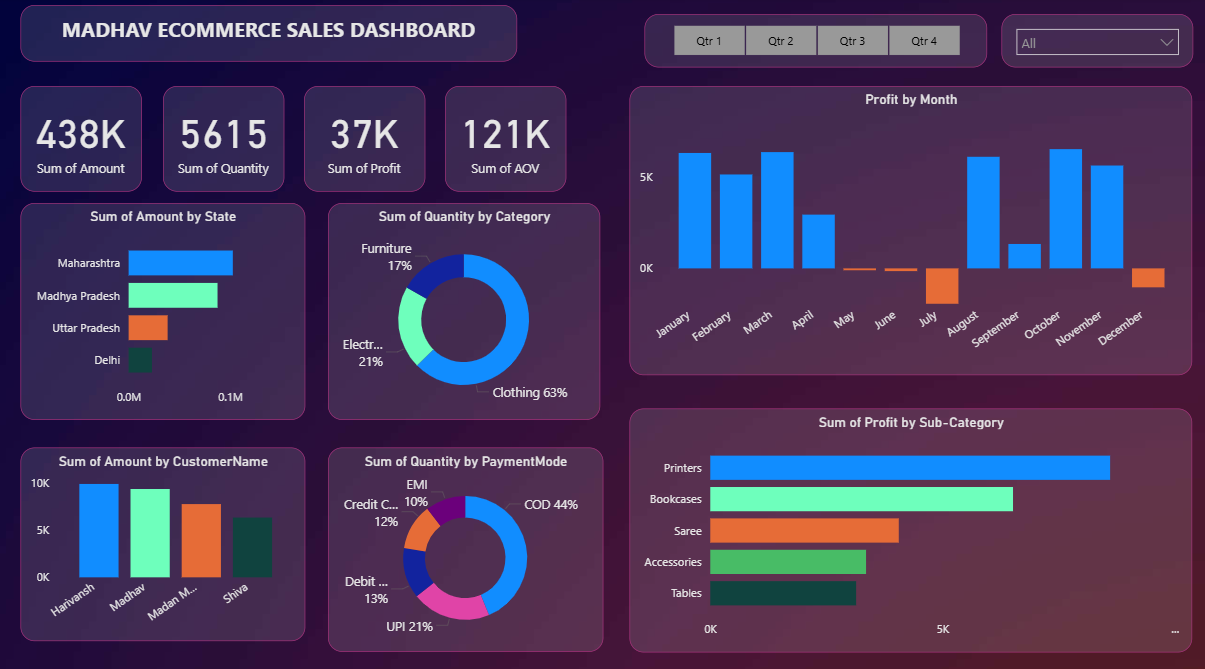

This screenshot's page, from the dashboard's own definition file:
{"tool":"powerbi","page":{"name":"Page 1","canvas":[1280,720],"ordinal":0},"visuals":[{"type":"textbox","box":[23.3,10,526.7,60],"z":0},{"type":"columnChart","title":"Profit by Month","fields":{"Category":["Orders (1).Order Date.Variation.Date Hierarchy.Month"],"Y":["Sum(Details (1).Profit)"]},"box":[670,95,596.7,306.7],"z":1000},{"type":"barChart","fields":{"Category":["Details (1).Sub-Category"],"Y":["Sum(Details (1).Profit)"]},"box":[670,436.7,596.7,258.3],"z":2000},{"type":"pieChart","fields":{"Category":["Details (1).Category"],"Y":["Sum(Details (1).Quantity)"]},"box":[350,220,288.3,230],"z":3000},{"type":"pieChart","fields":{"Category":["Details (1).PaymentMode","Details (1).Category"],"Y":["Sum(Details (1).Quantity)"]},"box":[350,478.3,291.7,216.7],"z":4000},{"type":"card","fields":{"Values":["Sum(Details (1).Amount)"]},"box":[23.3,95,128.3,111.7],"z":5000},{"type":"card","fields":{"Values":["Sum(Details (1).Quantity)"]},"box":[175,95,128.3,111.7],"z":6000},{"type":"card","fields":{"Values":["Sum(Details (1).Profit)"]},"box":[325,95,128.3,111.7],"z":7000},{"type":"card","fields":{"Values":["Sum(Details (1).AOV)"]},"box":[473.3,95,128.3,111.7],"z":8000},{"type":"barChart","fields":{"Category":["Orders (1).State"],"Y":["Sum(Details (1).Amount)"]},"box":[23.3,220,301.7,230],"z":9000},{"type":"columnChart","fields":{"Category":["Orders (1).CustomerName"],"Y":["Sum(Details (1).Amount)"]},"box":[23.3,478.3,301.7,205],"z":10000},{"type":"slicer","fields":{"Values":["Orders (1).Order Date.Variation.Date Hierarchy.Quarter"]},"box":[685,18.3,363.3,56.7],"z":11000},{"type":"slicer","fields":{"Values":["Orders (1).State"]},"box":[1063.3,18.3,203.3,56.7],"z":12000}]}

Visuals, with their boxes in screenshot pixels (x1, y1, x2, y2), scaled from the page's 1280x720 canvas onto the 1205x669 screenshot:
textbox: bbox(22, 9, 518, 65)
"Profit by Month" columnChart: bbox(631, 88, 1192, 373)
barChart - Details (1).Sub-Category x Sum(Details (1).Profit): bbox(631, 406, 1192, 646)
pieChart - Details (1).Category x Sum(Details (1).Quantity): bbox(329, 204, 601, 418)
pieChart - Details (1).PaymentMode x Details (1).Category: bbox(329, 444, 604, 646)
card - Sum(Details (1).Amount): bbox(22, 88, 143, 192)
card - Sum(Details (1).Quantity): bbox(165, 88, 286, 192)
card - Sum(Details (1).Profit): bbox(306, 88, 427, 192)
card - Sum(Details (1).AOV): bbox(446, 88, 566, 192)
barChart - Orders (1).State x Sum(Details (1).Amount): bbox(22, 204, 306, 418)
columnChart - Orders (1).CustomerName x Sum(Details (1).Amount): bbox(22, 444, 306, 635)
slicer - Orders (1).Order Date.Variation.Date Hierarchy.Quarter: bbox(645, 17, 987, 70)
slicer - Orders (1).State: bbox(1001, 17, 1192, 70)
